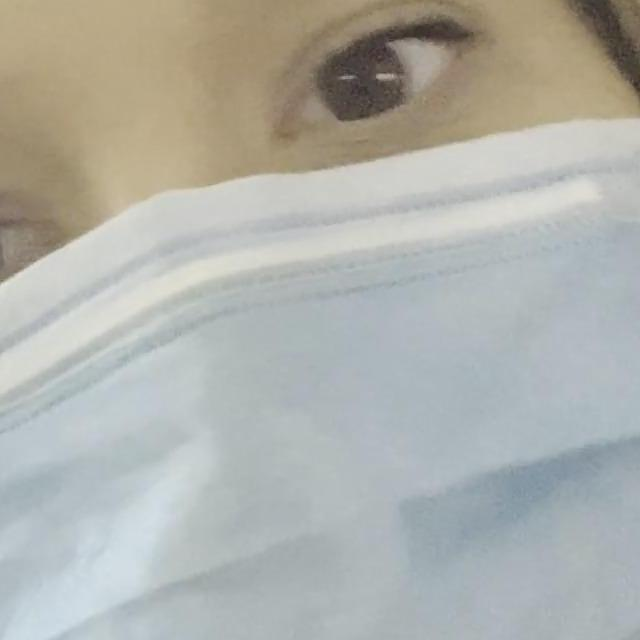Mask: (0, 130, 640, 640)
Person: (0, 0, 640, 640)
